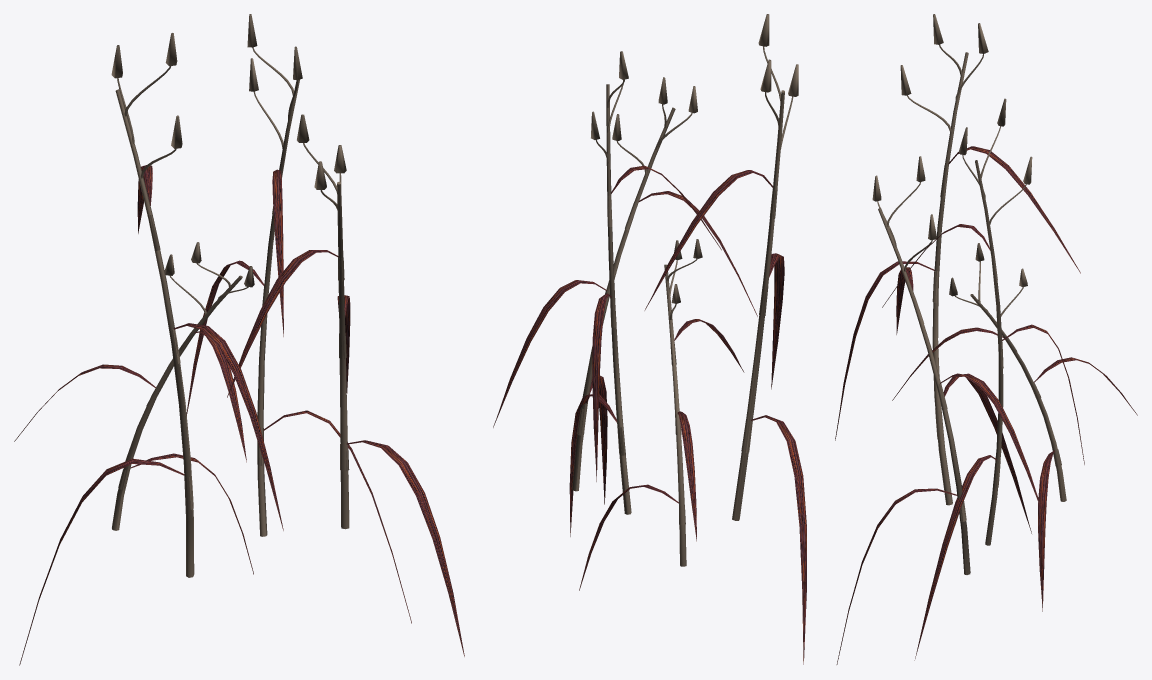
File: dryshoots_11.glb
3 renders of one model, left to right at view 1: azimuth 30°, elevation 25°; view 2: azimuth 150°, elevation 25°; view 3: azimuth 270°, elevation 25°, orthographic. The views are drawn at different scales.
Visible parts, largest first — view 1: export; view 2: export; view 3: export.
Boxes of the visible parts, box(x1,y1,x2,y2) form: export: box(14, 14, 464, 665); export: box(493, 14, 806, 664); export: box(835, 14, 1137, 664).
Bounding box in the file's own units: 0.8201 × 1.52 × 0.7454.
2 materials, 2 textured.
